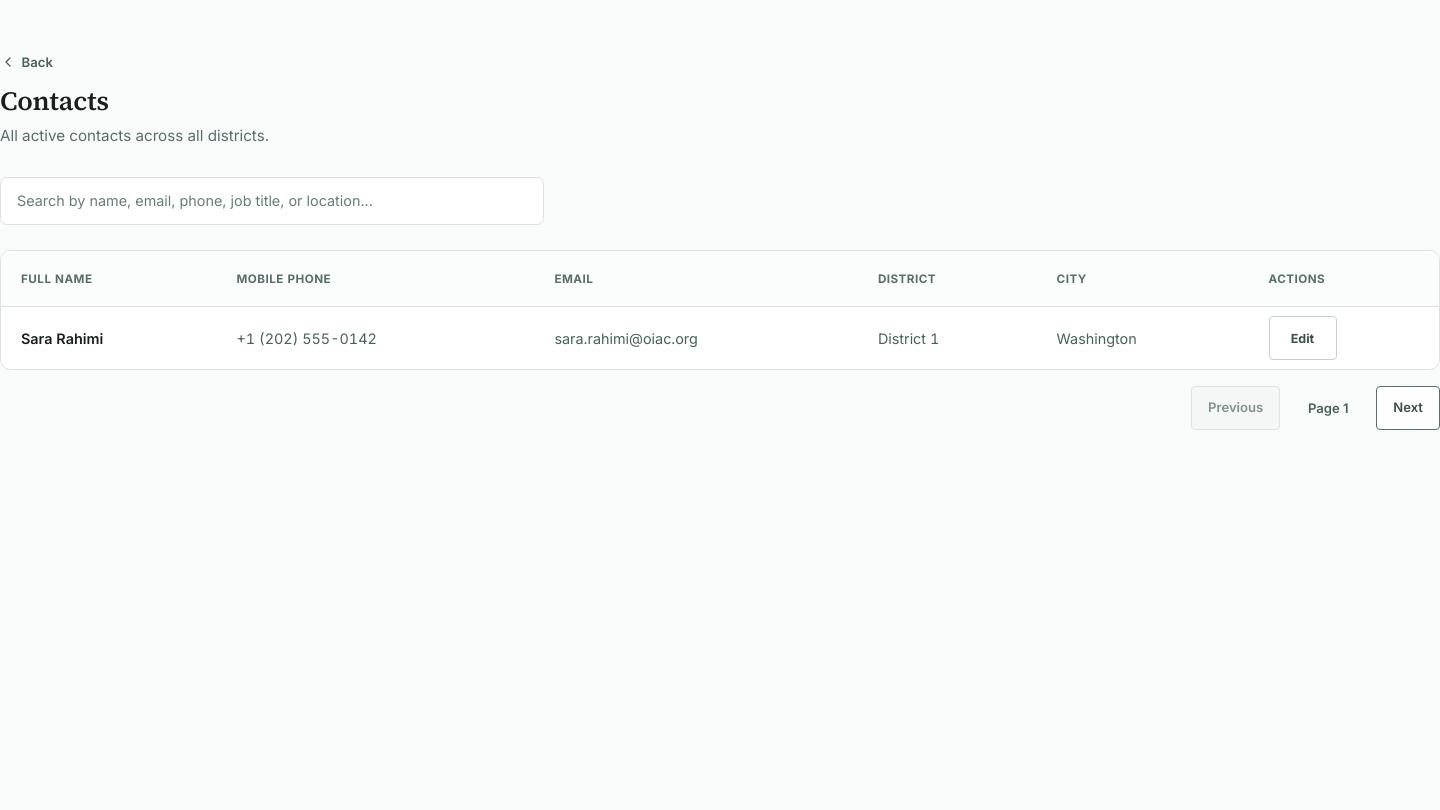
Test: keeps the edit modal open and does not reload after a failed edit
Click the button with aria-label "Edit Sara Rahimi" at (1302, 338), box [1268, 316, 1336, 360]
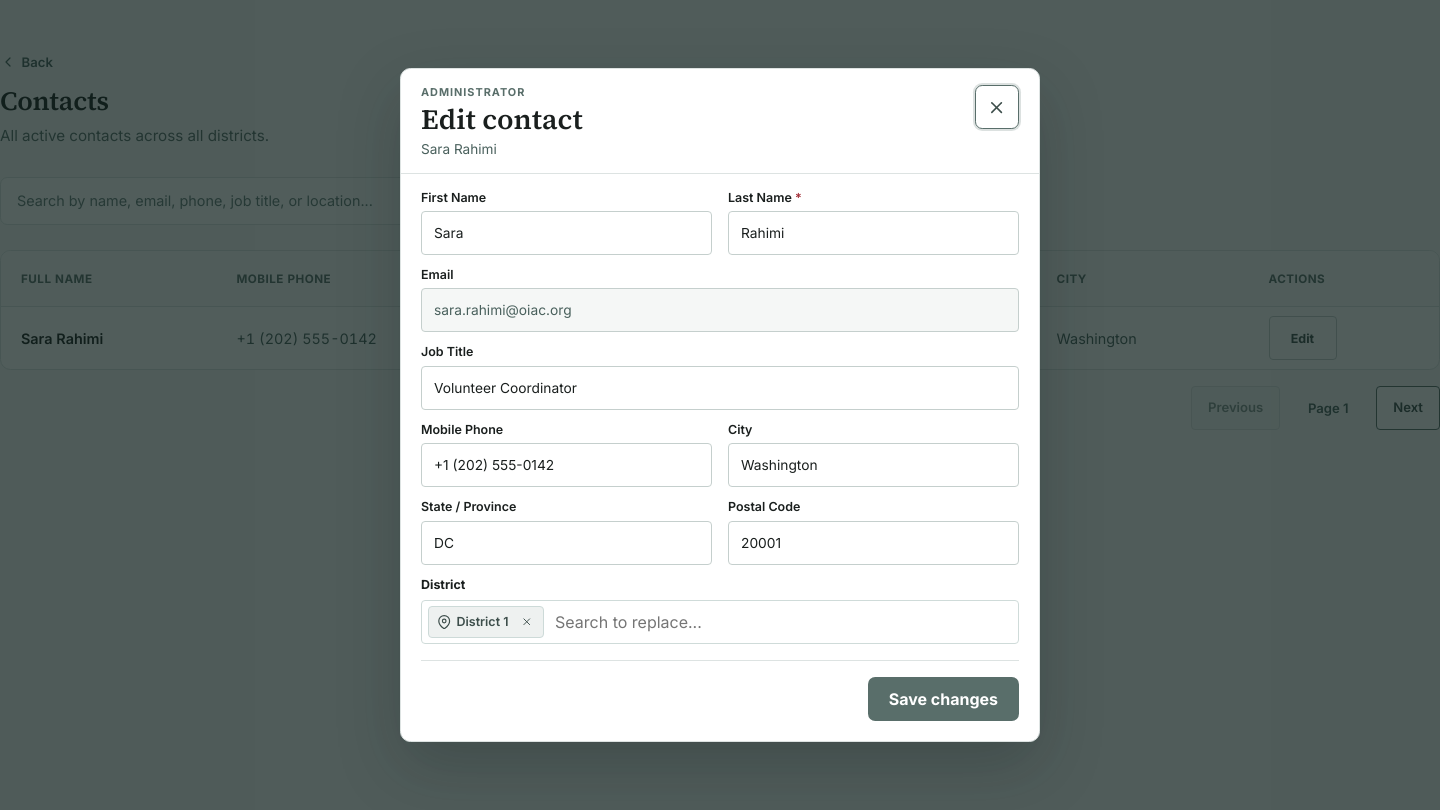
Click the button "Save changes" at (943, 699), box [868, 677, 1019, 721]
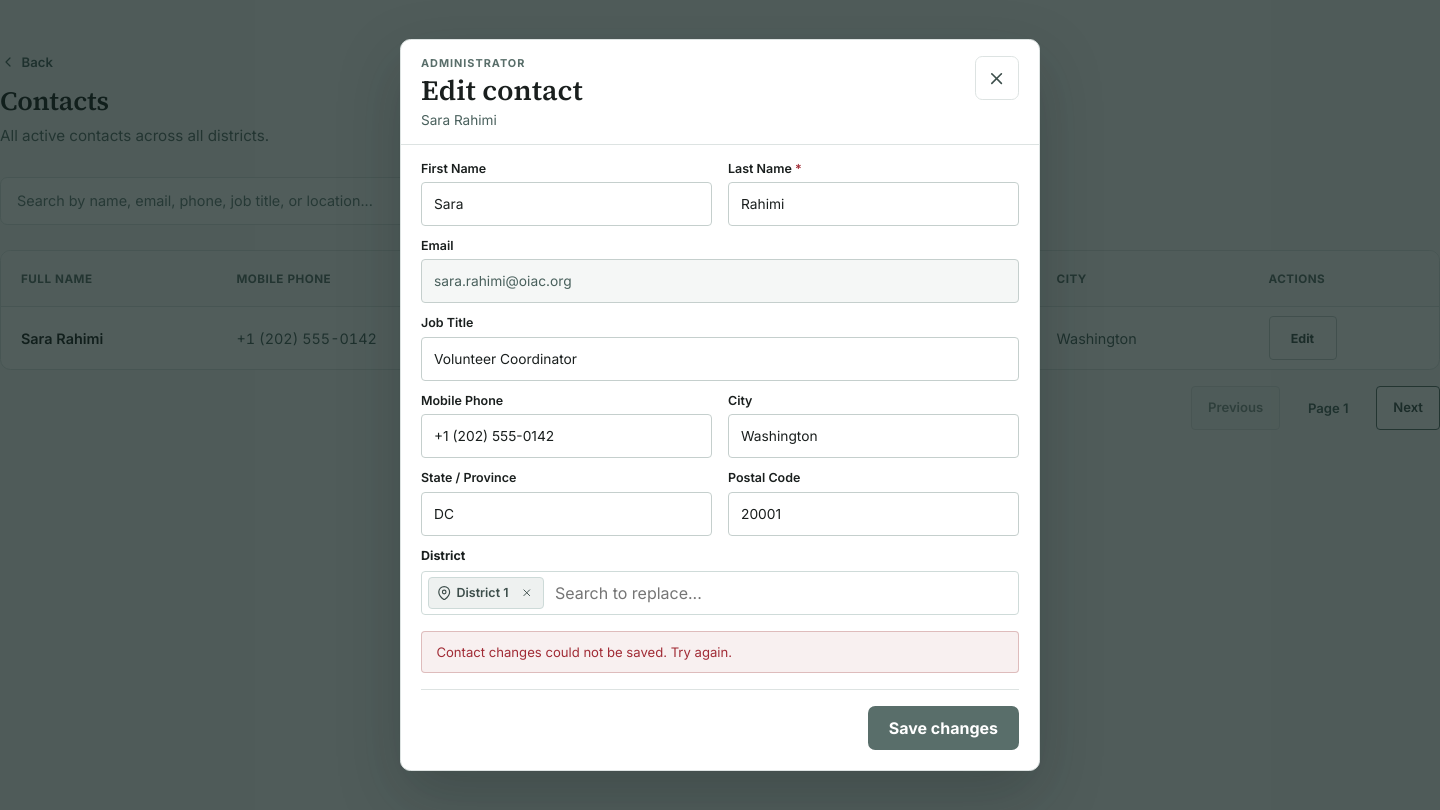
Expected: the dialog is shown, [400, 39, 1040, 771]
Expected: the message reads "Contact changes could not be saved. Try again.", [436, 644, 732, 660]
